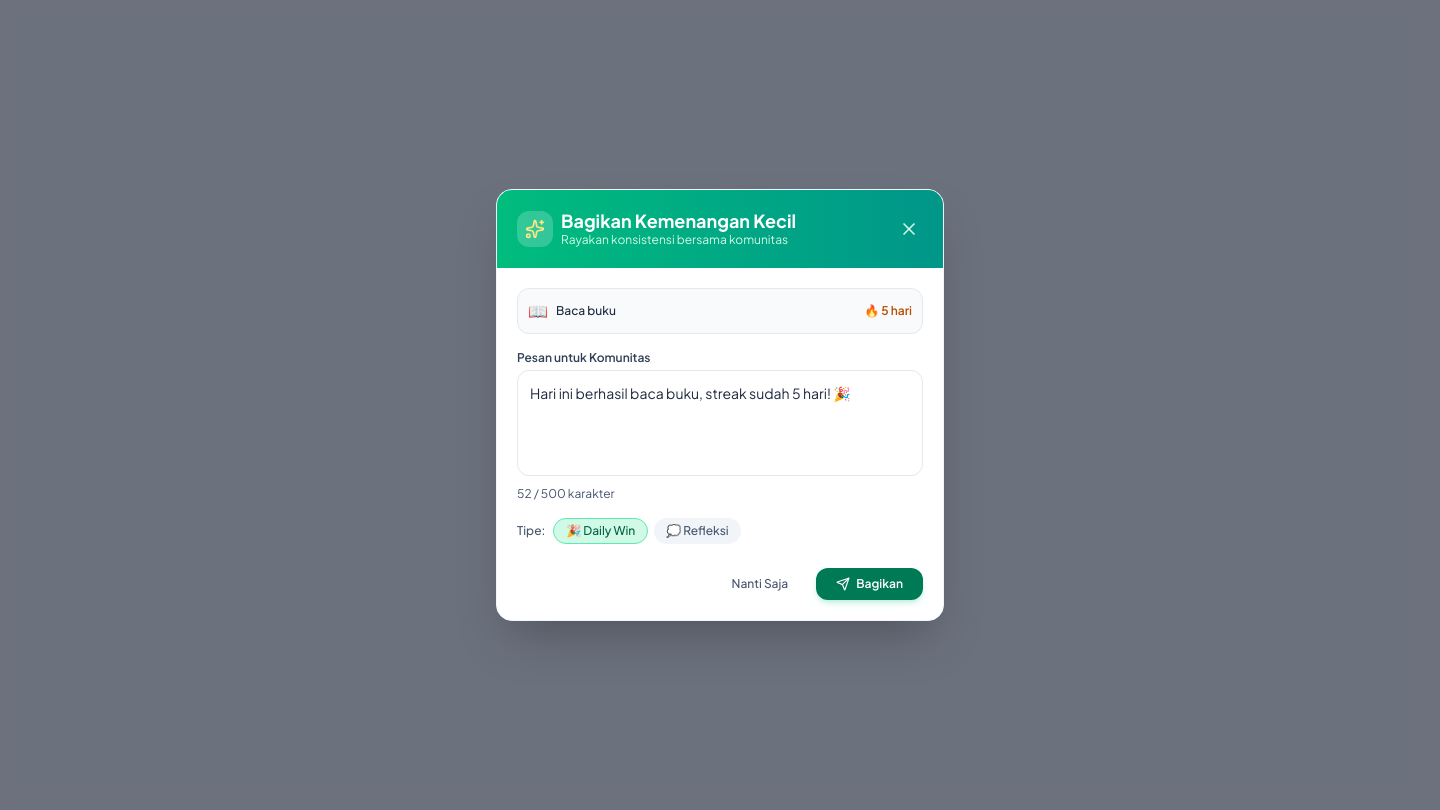
Test case: ShareWinModal › shows error on submit failure
This screenshot has width=1440, height=810.
Click the button "Bagikan". click: (870, 584)
box: [816,568,923,600]
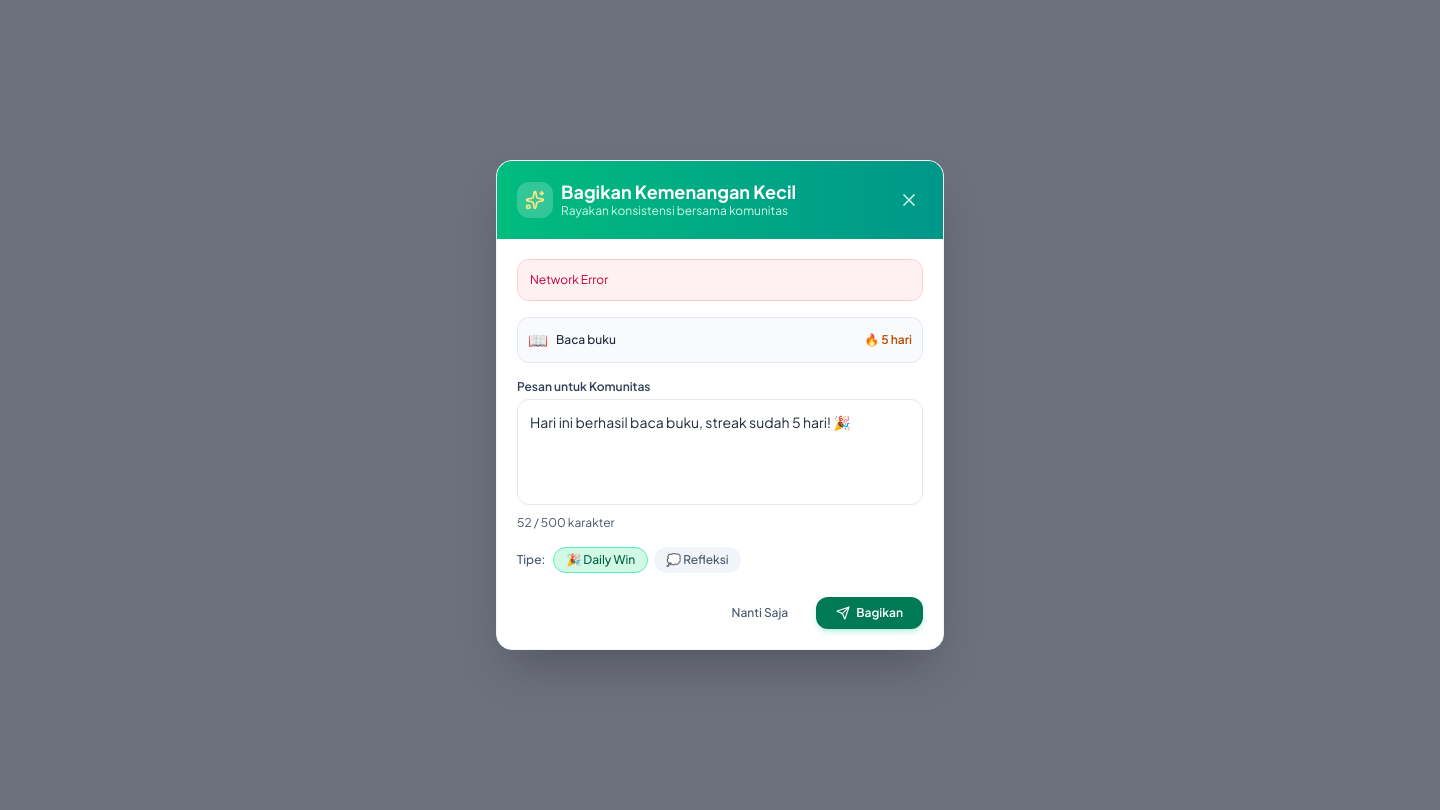
Check: the text "Network Error" is shown, box [517,259,923,301]
